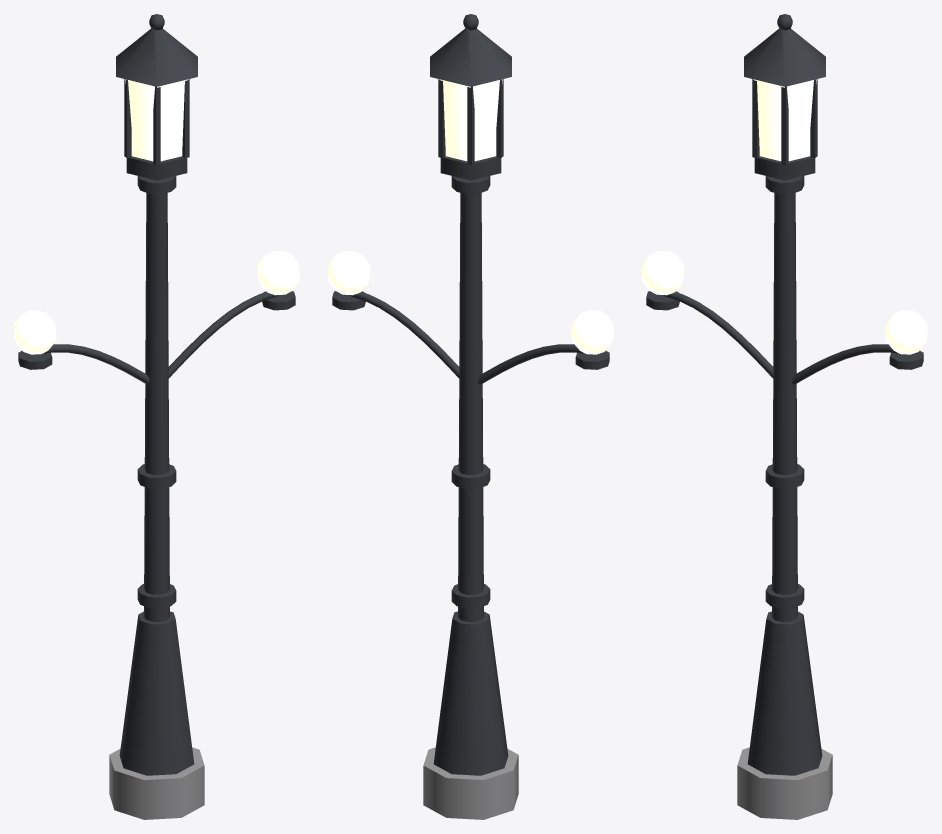
The model's file is prop_promenade_lamp.glb.
3 renders of one model, left to right at view 1: azimuth 30°, elevation 25°; view 2: azimuth 150°, elevation 25°; view 3: azimuth 330°, elevation 25°, orthographic.
Parts seen in each view (by area): view 1: promenade_lamp_body, promenade_lamp_glass; view 2: promenade_lamp_body, promenade_lamp_glass; view 3: promenade_lamp_body, promenade_lamp_glass.
Boxes of the visible parts, left/top/right/bottom form: promenade_lamp_body: left=18, top=14, right=295, bottom=819; promenade_lamp_glass: left=14, top=79, right=299, bottom=354; promenade_lamp_body: left=332, top=14, right=609, bottom=819; promenade_lamp_glass: left=328, top=79, right=613, bottom=354; promenade_lamp_body: left=646, top=14, right=923, bottom=819; promenade_lamp_glass: left=642, top=79, right=927, bottom=354.
Size of the model in its own units: 1.85 by 4.93 by 0.56.
